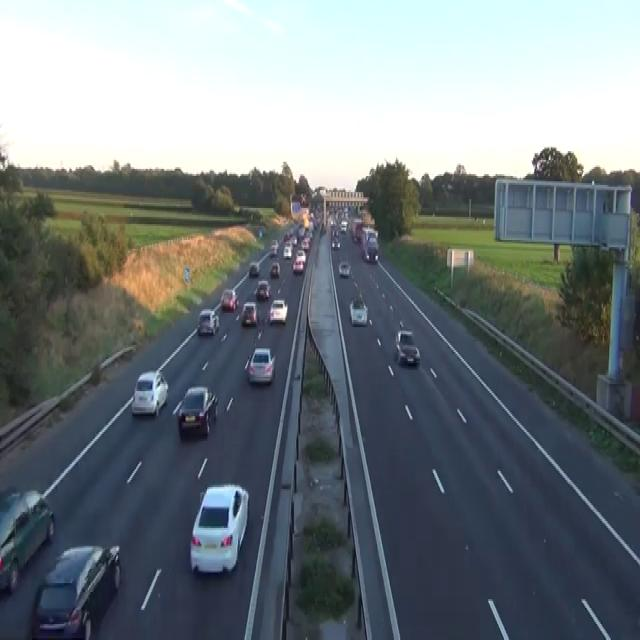Car: (30, 544, 121, 638), (0, 485, 54, 594), (189, 482, 249, 574), (174, 386, 218, 437), (131, 370, 168, 416), (283, 220, 313, 276), (244, 347, 275, 384), (395, 329, 420, 366), (196, 308, 219, 334), (349, 295, 368, 325), (268, 298, 288, 324), (241, 300, 258, 326), (220, 288, 239, 311), (255, 279, 270, 301), (292, 256, 304, 274), (338, 262, 351, 278), (365, 246, 378, 262), (269, 238, 278, 256), (270, 262, 280, 278), (249, 262, 260, 276), (283, 244, 292, 258), (296, 249, 306, 261), (339, 219, 347, 233), (300, 238, 310, 249), (331, 238, 340, 249), (297, 224, 305, 236), (308, 220, 314, 234), (331, 226, 339, 236), (320, 222, 326, 235), (284, 231, 291, 242), (329, 217, 336, 227), (291, 235, 297, 245), (398, 320, 403, 329), (258, 228, 262, 236), (309, 212, 313, 218)
